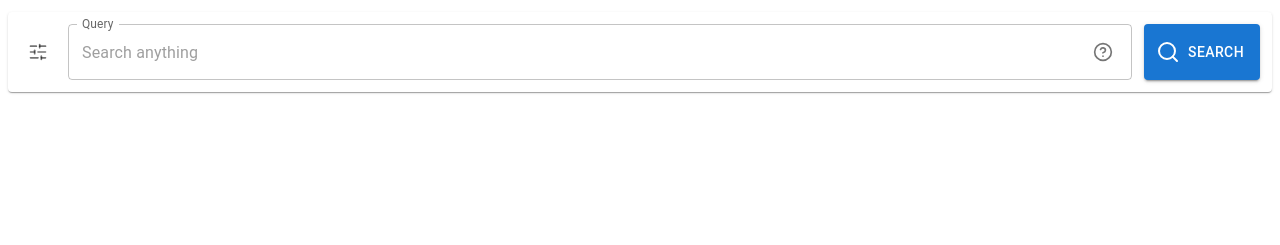
ExplorerSearchForm query autocomplete › lists fields with descriptions and completes the first with Tab
In the dropdown labelled "Query": x=581, y=52 [68,24,1094,80], type "s"
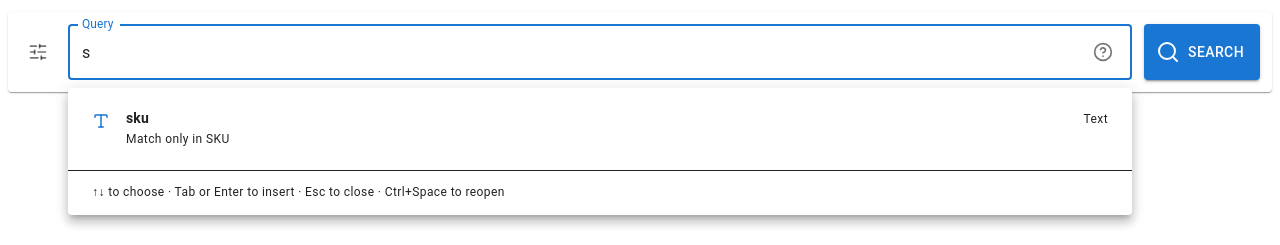
Result: the option "sku Text Match only in SKU" is shown at [92,110,1108,146]
Press Tab
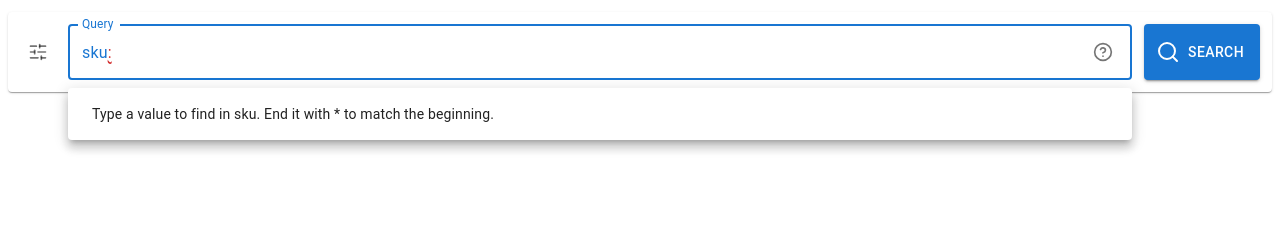
Result: the dropdown labelled "Query" holds "sku:" at [68,24,1094,80]
Result: the text "Type a value to find in sku" is shown at [92,106,494,122]
